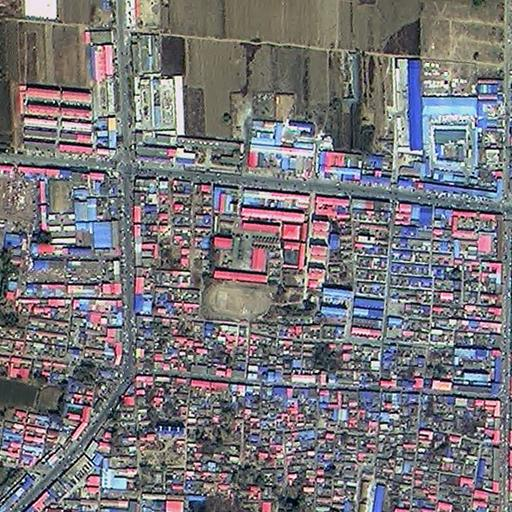school: (205, 183, 311, 319)
